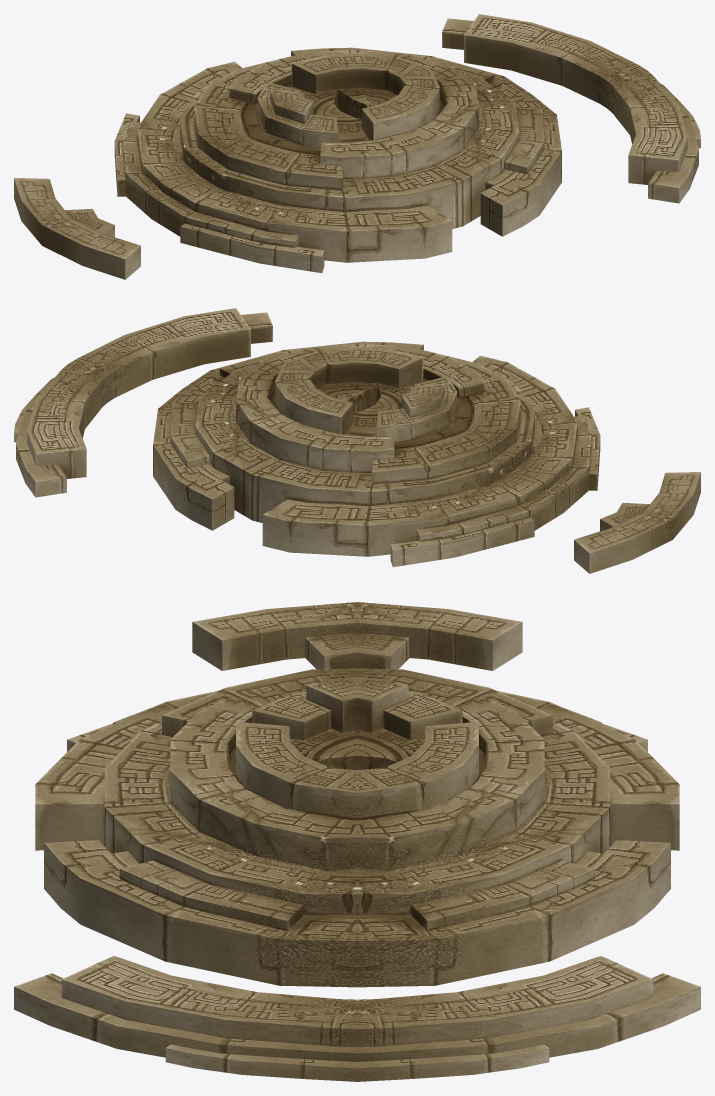
File: stone_19.FBX
3 views of the same model, one above another, from view 1: azimuth 30°, elevation 25°; view 2: azimuth 150°, elevation 25°; view 3: azimuth 270°, elevation 25° (orthographic). The views are drawn at different scales.
Visible parts, largest first — view 1: Object04:01; view 2: Object04:01; view 3: Object04:01.
Boxes of the visible parts, bbox=[...] form: Object04:01: bbox=[14, 14, 700, 279]; Object04:01: bbox=[14, 308, 700, 573]; Object04:01: bbox=[14, 602, 700, 1081].
Size of the model in its own units: 299 by 38.58 by 193.
